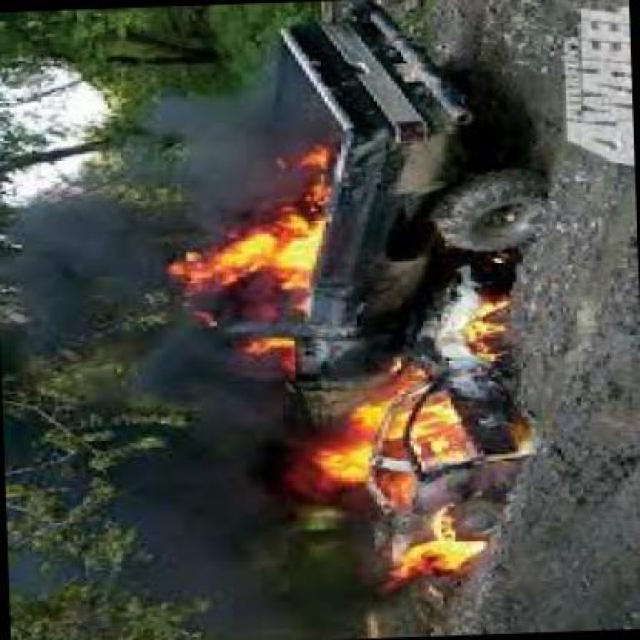Fire: (171, 203, 345, 349), (312, 386, 491, 494), (374, 516, 494, 596)
Smoke: (49, 361, 274, 624), (21, 168, 166, 330), (162, 90, 276, 212)
